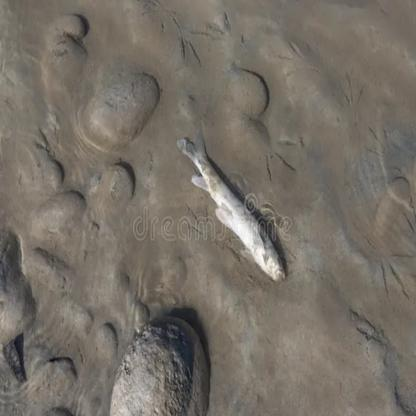deceased fish: (177, 128, 285, 283)
